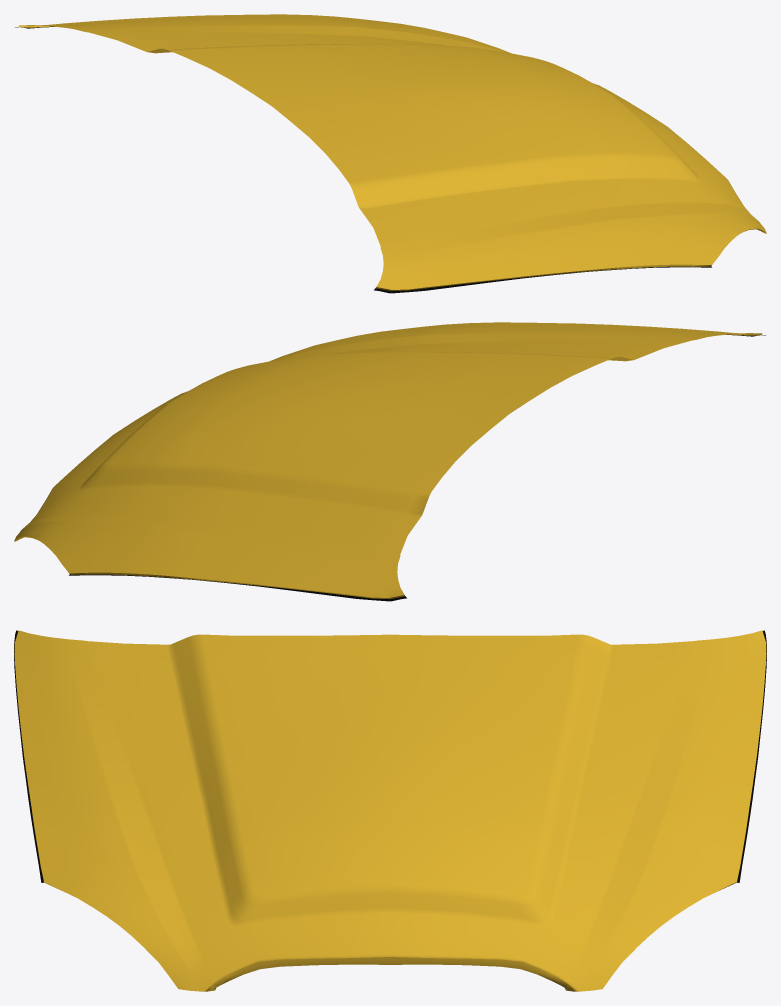
3 renders of one model, top to bottom at view 1: azimuth 30°, elevation 25°; view 2: azimuth 150°, elevation 25°; view 3: azimuth 270°, elevation 25°, orthographic. The views are drawn at different scales.
Visible parts, largest first — view 1: P353_20_101B_C_1_DaS_P353_20_101B_C, P353_20_101B_C_1_DaS_P353_20_101B_C_E, P353_20_101B_C_P353_20_101B_C_2_D; view 2: P353_20_101B_C_1_DaS_P353_20_101B_C, P353_20_101B_C_1_DaS_P353_20_101B_C_E, P353_20_101B_C_P353_20_101B_C_2_D; view 3: P353_20_101B_C_1_DaS_P353_20_101B_C, P353_20_101B_C_1_DaS_P353_20_101B_C_E, P353_20_101B_C_P353_20_101B_C_2_D.
Part boxes in pixels (x1=…): P353_20_101B_C_1_DaS_P353_20_101B_C: x1=25, y1=14, x2=766, y2=289; P353_20_101B_C_1_DaS_P353_20_101B_C_E: x1=18, y1=25, x2=766, y2=291; P353_20_101B_C_P353_20_101B_C_2_D: x1=15, y1=26, x2=711, y2=293; P353_20_101B_C_1_DaS_P353_20_101B_C: x1=14, y1=322, x2=755, y2=597; P353_20_101B_C_1_DaS_P353_20_101B_C_E: x1=14, y1=333, x2=762, y2=599; P353_20_101B_C_P353_20_101B_C_2_D: x1=69, y1=334, x2=765, y2=601; P353_20_101B_C_1_DaS_P353_20_101B_C: x1=14, y1=630, x2=766, y2=991; P353_20_101B_C_1_DaS_P353_20_101B_C_E: x1=32, y1=814, x2=748, y2=991; P353_20_101B_C_P353_20_101B_C_2_D: x1=14, y1=630, x2=766, y2=882.
Size of the model in its own units: 128 by 38.54 by 168.
